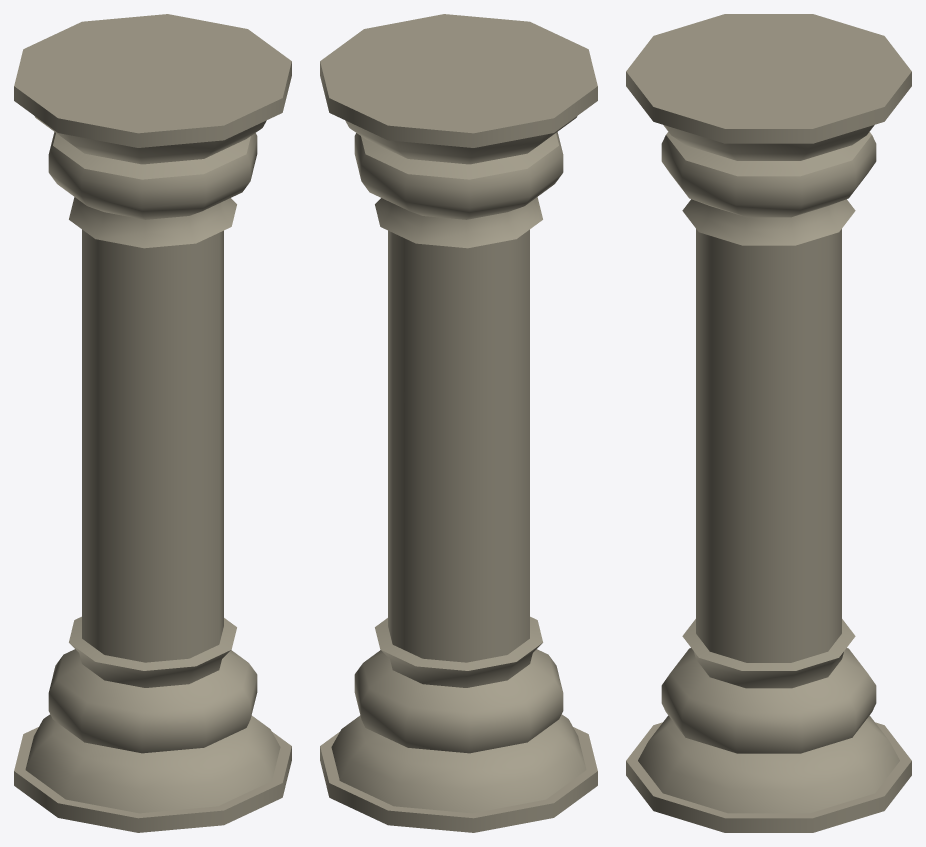
Rendered from Column_Round2.gltf.
3 renders of one model, left to right at view 1: azimuth 30°, elevation 25°; view 2: azimuth 150°, elevation 25°; view 3: azimuth 270°, elevation 25°, orthographic.
Visible parts, largest first — view 1: Column_Round2; view 2: Column_Round2; view 3: Column_Round2.
Boxes of the visible parts, bbox=[...] form: Column_Round2: bbox=[14, 14, 291, 832]; Column_Round2: bbox=[320, 14, 597, 832]; Column_Round2: bbox=[626, 14, 911, 832].
Size of the model in its own units: 1.4 by 4 by 1.47.
